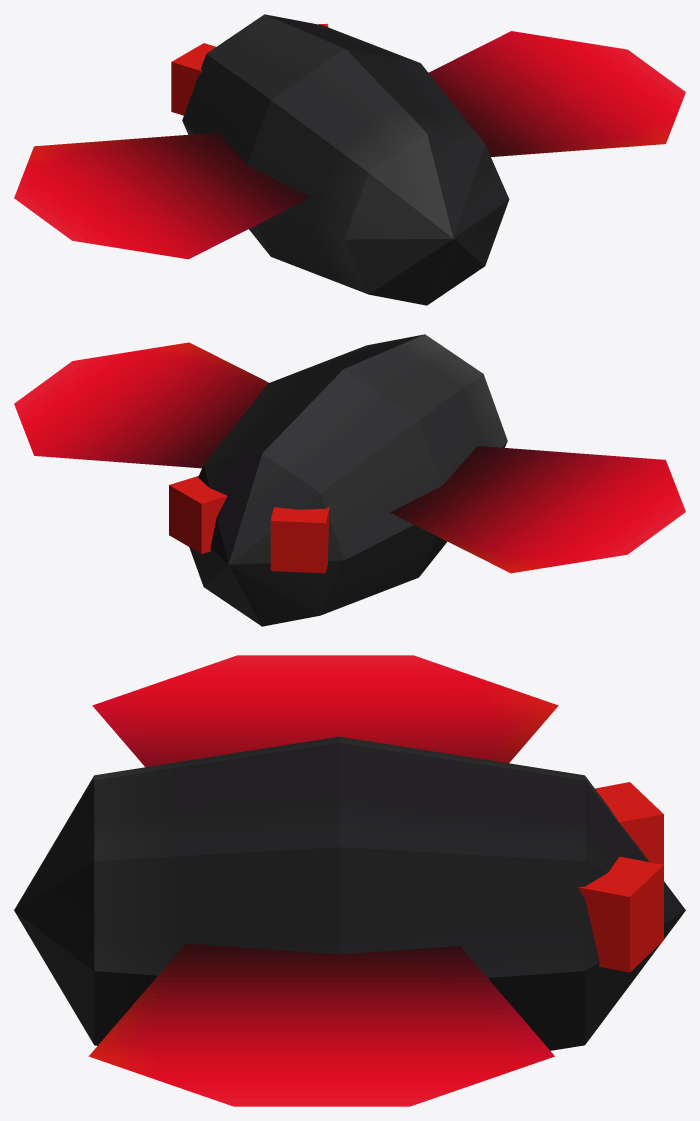
The model's file is EnemyFly1.dae.
The picture shows the model from 3 angles, top to bottom: view 1: azimuth 30°, elevation 25°; view 2: azimuth 150°, elevation 25°; view 3: azimuth 270°, elevation 25°; orthographic projection. The views are drawn at different scales.
Parts seen in each view (by area): view 1: Cube.003, Cube.001, Cube.002; view 2: Cube.003, Cube.001, Cube.002; view 3: Cube.003, Cube.002, Cube.001.
Boxes of the visible parts, x1=… form: Cube.003: x1=171, y1=14, x2=509, y2=305; Cube.001: x1=14, y1=132, x2=310, y2=259; Cube.002: x1=428, y1=31, x2=685, y2=156; Cube.003: x1=169, y1=334, x2=507, y2=626; Cube.001: x1=390, y1=446, x2=685, y2=573; Cube.002: x1=14, y1=342, x2=268, y2=468; Cube.003: x1=14, y1=736, x2=685, y2=1050; Cube.002: x1=88, y1=943, x2=554, y2=1106; Cube.001: x1=92, y1=655, x2=558, y2=767.
Bounding box in the file's own units: 4.16 × 2.62 × 1.44.
Materials: 1 (1 with a texture image).
